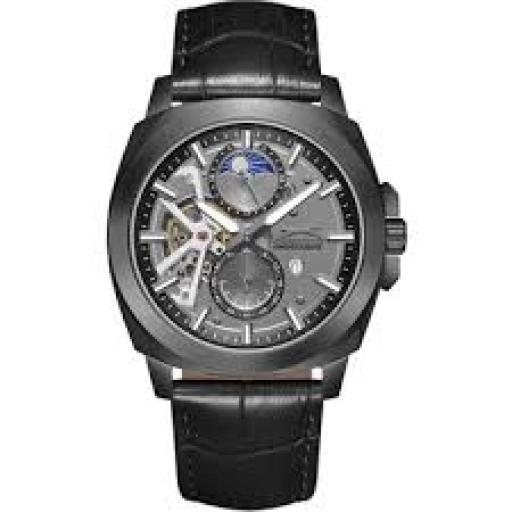KolSaati: (88, 5, 413, 512)
